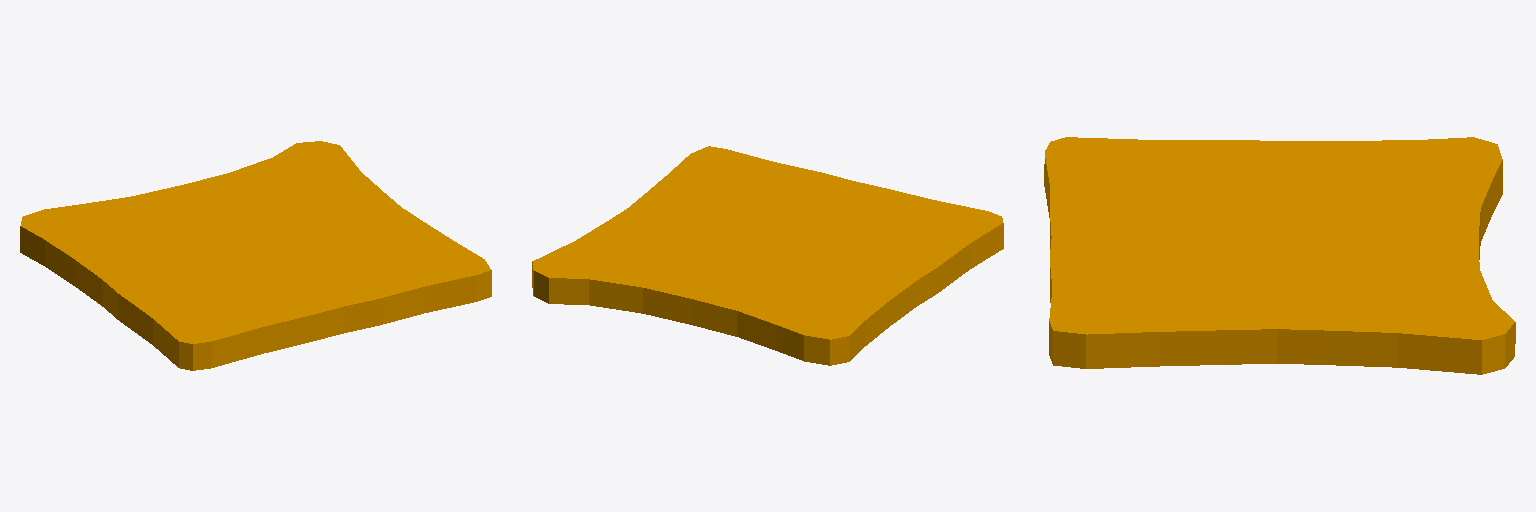
robot.urdf — none:
<robot name="none">
       <link name="none">
           <visual>
               <origin rpy="1.57 0 0" xyz="0 0 0" />
               <geometry>
                   <mesh filename="toast.obj" />
               </geometry>
           </visual>
          <collision>
              <geometry>
                  <box size="1.000000 0.079413 0.979846" />
              </geometry>
          </collision>

          <inertial>
            <mass value="0.0" />
            <inertia ixx="0.0" ixy="0.0" ixz="0.0" iyy="0.0" iyz="0.0" izz="0.0" />
          </inertial>
      </link>
  </robot>

--- Render facts (derived) ---
The picture shows the robot from 3 angles, left to right: view 1: azimuth 30°, elevation 25°; view 2: azimuth 150°, elevation 25°; view 3: azimuth 270°, elevation 25°; orthographic projection.
Model none with 1 links and 0 joints (none), rooted at none, posed all joints at 0.
Visible links, largest first — view 1: none; view 2: none; view 3: none.
Boxes of the visible links, <box> form: none: <box>20,141,491,370</box>; none: <box>532,146,1003,365</box>; none: <box>1044,137,1515,374</box>.
Size in the robot's own frame: 1 by 0.9799 by 0.0802 metres.
1 mesh visuals loaded from 1 distinct referenced files (1 OBJ).